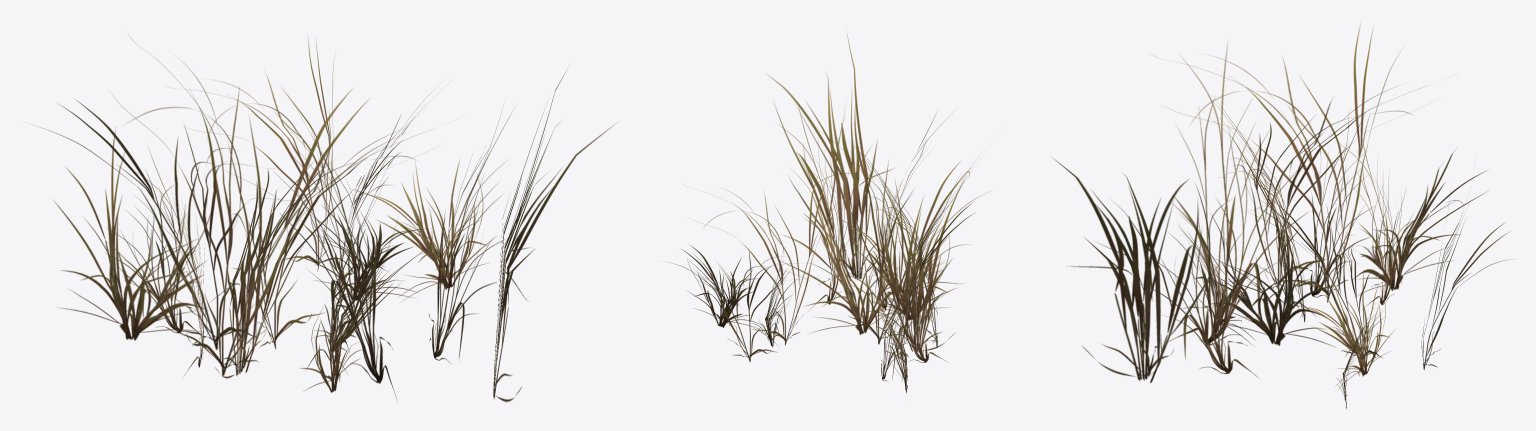
Rendered from good-grass.glb.
3 views of the same model, side by side, from view 1: azimuth 30°, elevation 25°; view 2: azimuth 150°, elevation 25°; view 3: azimuth 270°, elevation 25° (orthographic). The views are drawn at different scales.
Parts seen in each view (by area): view 1: grasspatch2_grass1_0; view 2: grasspatch2_grass1_0; view 3: grasspatch2_grass1_0.
Part boxes in pixels (bbox=[...]): grasspatch2_grass1_0: bbox=[40, 37, 614, 401]; grasspatch2_grass1_0: bbox=[672, 34, 985, 392]; grasspatch2_grass1_0: bbox=[1053, 24, 1509, 408].
Size of the model in its own units: 1.29 by 0.9669 by 1.37.
Materials: 1 (1 with a texture image).
